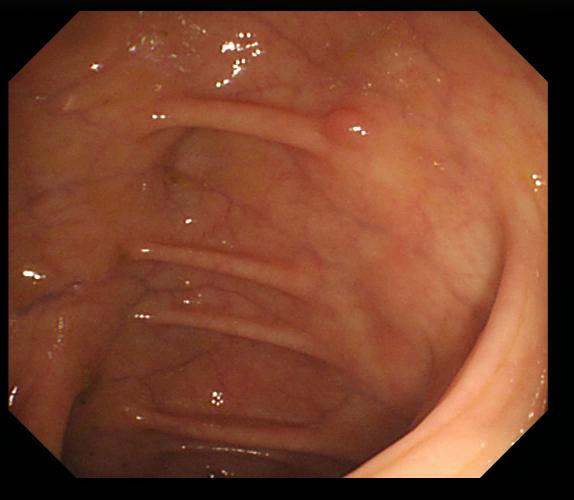polyp: (326, 103, 378, 151)
